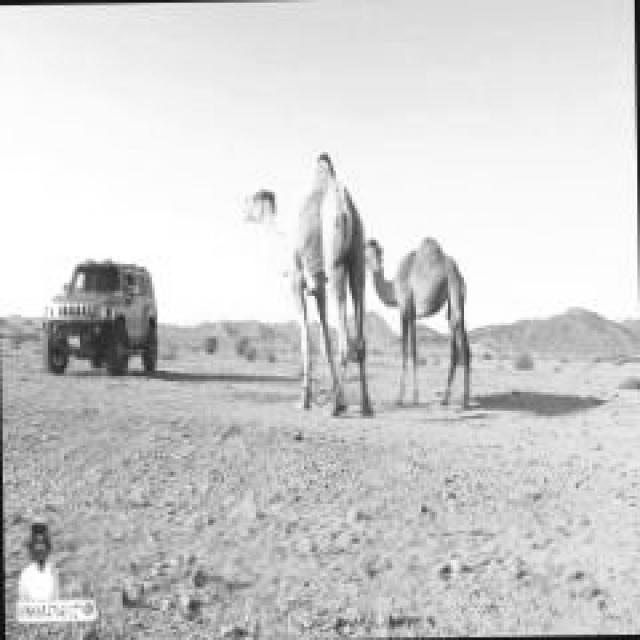Camel: (240, 149, 373, 416), (363, 235, 469, 408)
